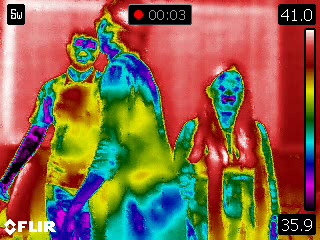human: (82, 2, 187, 240), (1, 28, 106, 237), (172, 64, 281, 240)
